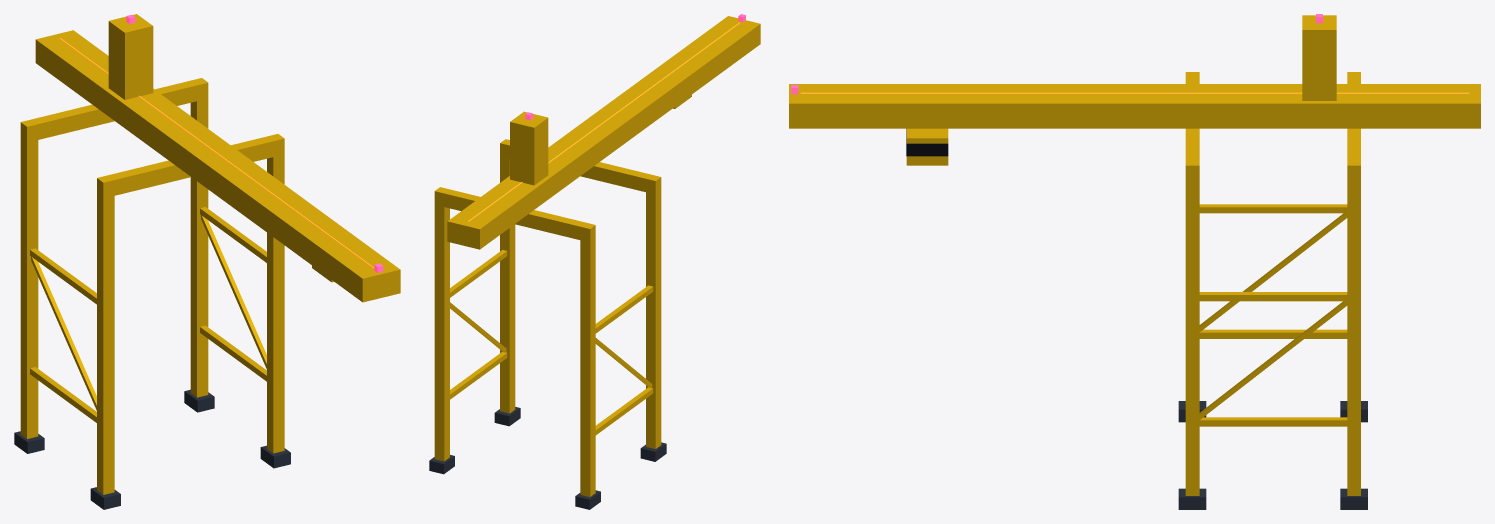
Rendered from crane_gantry.glb.
3 views of the same model, side by side, from view 1: azimuth 30°, elevation 25°; view 2: azimuth 150°, elevation 25°; view 3: azimuth 270°, elevation 25° (orthographic). The views are drawn at different scales.
Visible parts, largest first — view 1: crane; view 2: crane; view 3: crane.
Part boxes in pixels (left/top/right/bottom): crane: left=14, top=14, right=400, bottom=509; crane: left=429, top=14, right=760, bottom=509; crane: left=789, top=14, right=1480, bottom=509.
Size of the model in its own units: 19.8 by 42.7 by 60.
